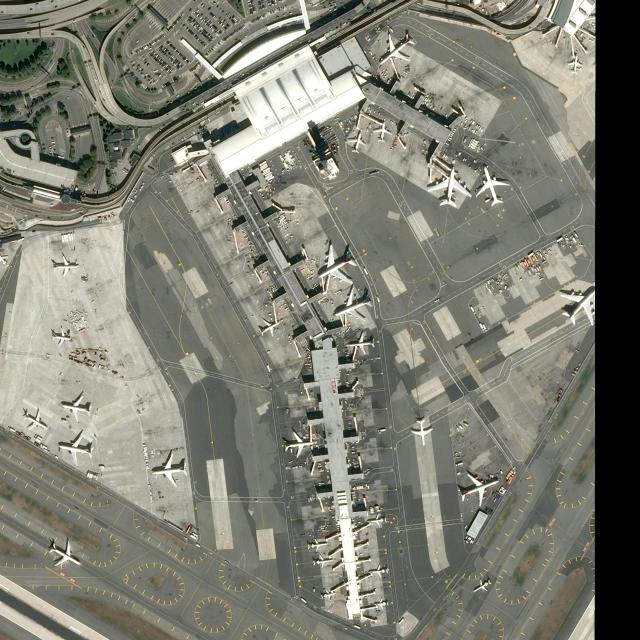1: (0, 253, 8, 266)
aircraft: (427, 164, 472, 209), (316, 242, 357, 284), (558, 284, 596, 326), (456, 470, 499, 507), (333, 284, 372, 322), (475, 164, 509, 206), (150, 451, 188, 487), (56, 431, 94, 466), (378, 31, 416, 65), (46, 537, 82, 566), (282, 429, 316, 458), (60, 393, 92, 422), (347, 330, 376, 355), (21, 406, 49, 431), (409, 417, 433, 445), (51, 254, 79, 276), (346, 130, 367, 154), (256, 317, 280, 337), (51, 324, 71, 346), (471, 576, 492, 594), (373, 121, 391, 141), (368, 562, 390, 578), (306, 537, 328, 552), (365, 512, 387, 526), (567, 54, 582, 74), (313, 554, 332, 568), (319, 586, 337, 600), (373, 596, 390, 608)
